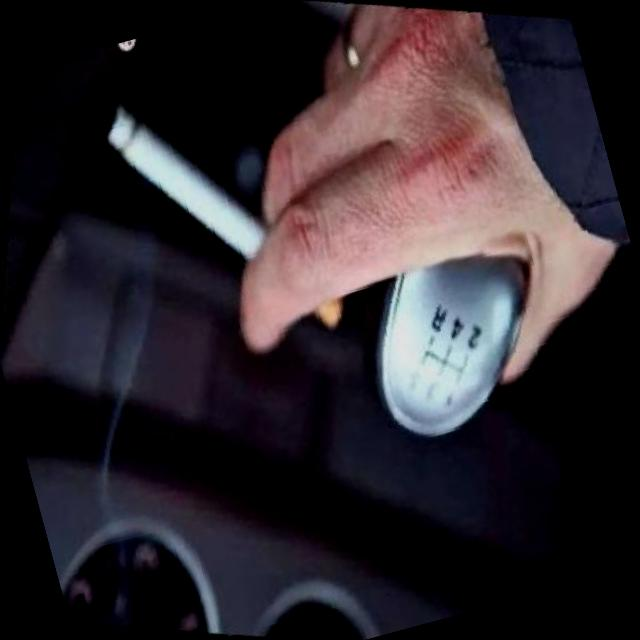smoke: (35, 36, 412, 395)
